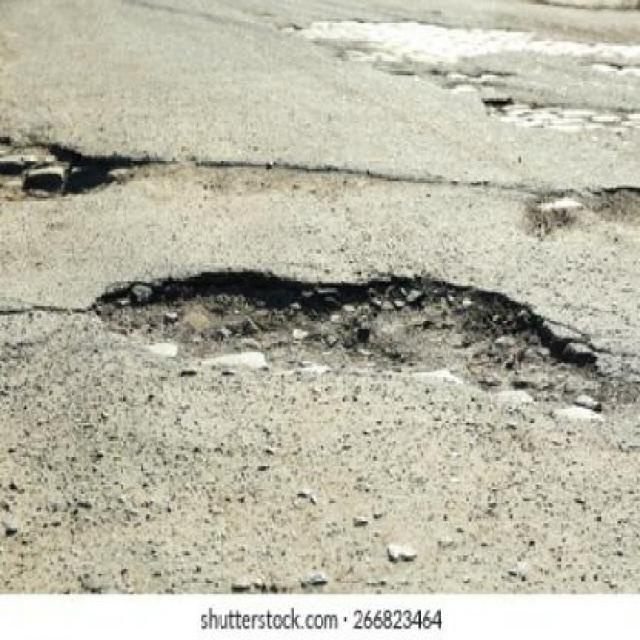Pothole: (96, 270, 601, 412), (0, 135, 179, 199)
